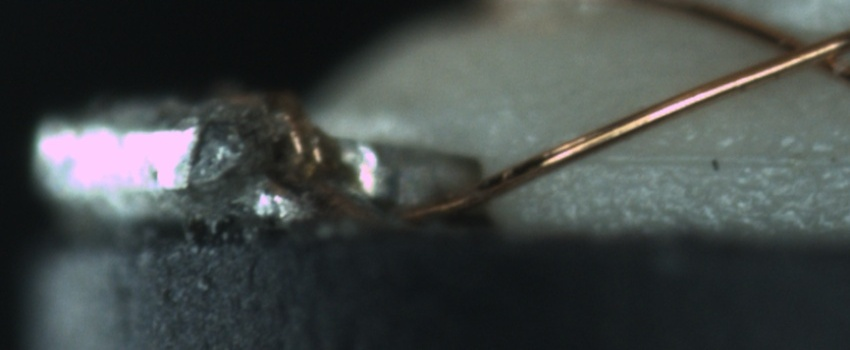CL: (746, 16, 845, 83)
DL: (585, 129, 850, 190)
TE: (265, 94, 335, 186)
